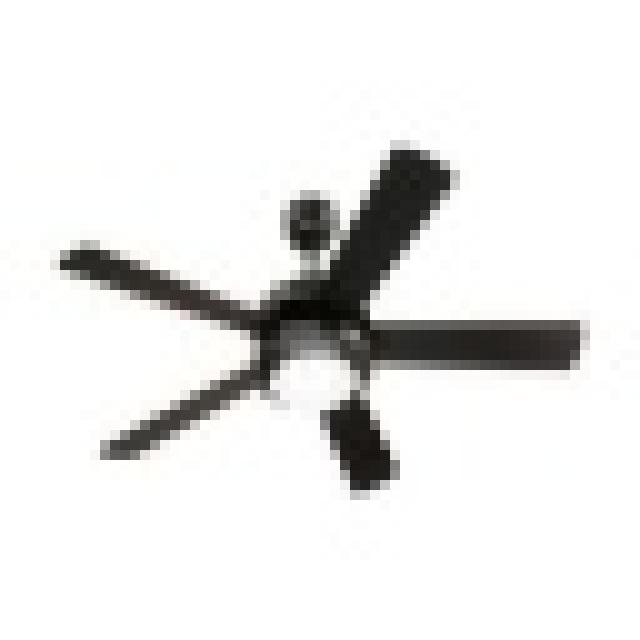Bulb: (33, 142, 600, 535)
